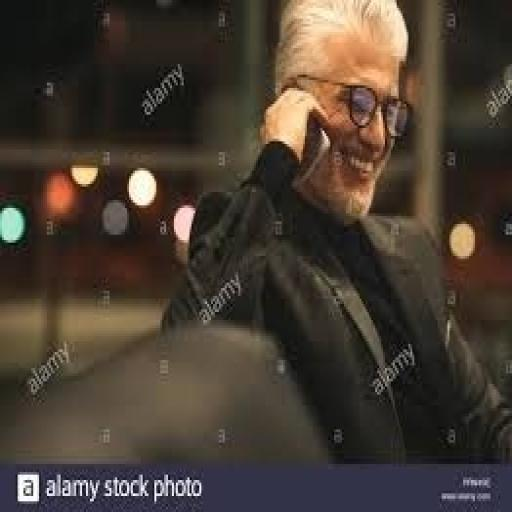calling: (158, 0, 510, 464)
